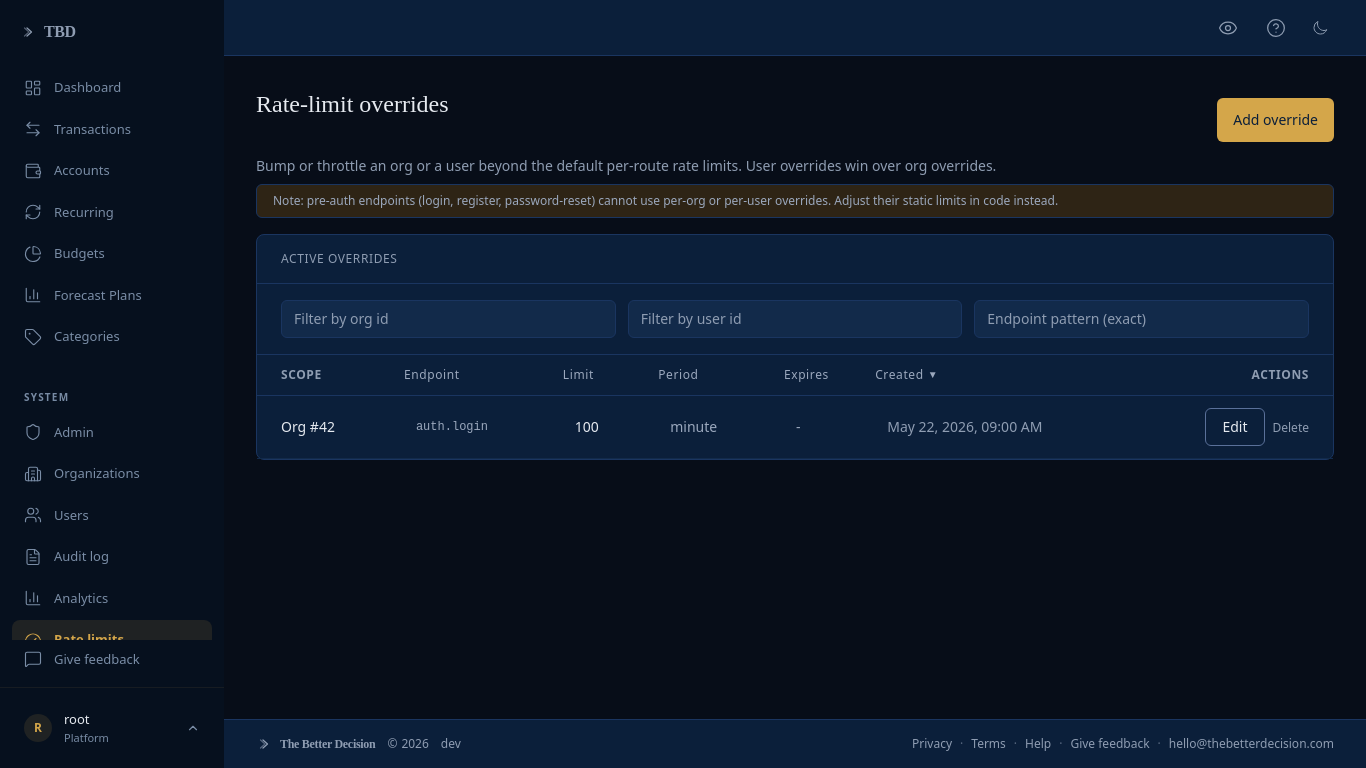
Test: AdminRateLimitOverridesPage › opens the edit modal pre-populated with the row's values
Expected: the text "auth.login" is shown, [392,396,551,458]
Click the button "Edit".
click(1235, 427)  # box [1205,408,1264,446]
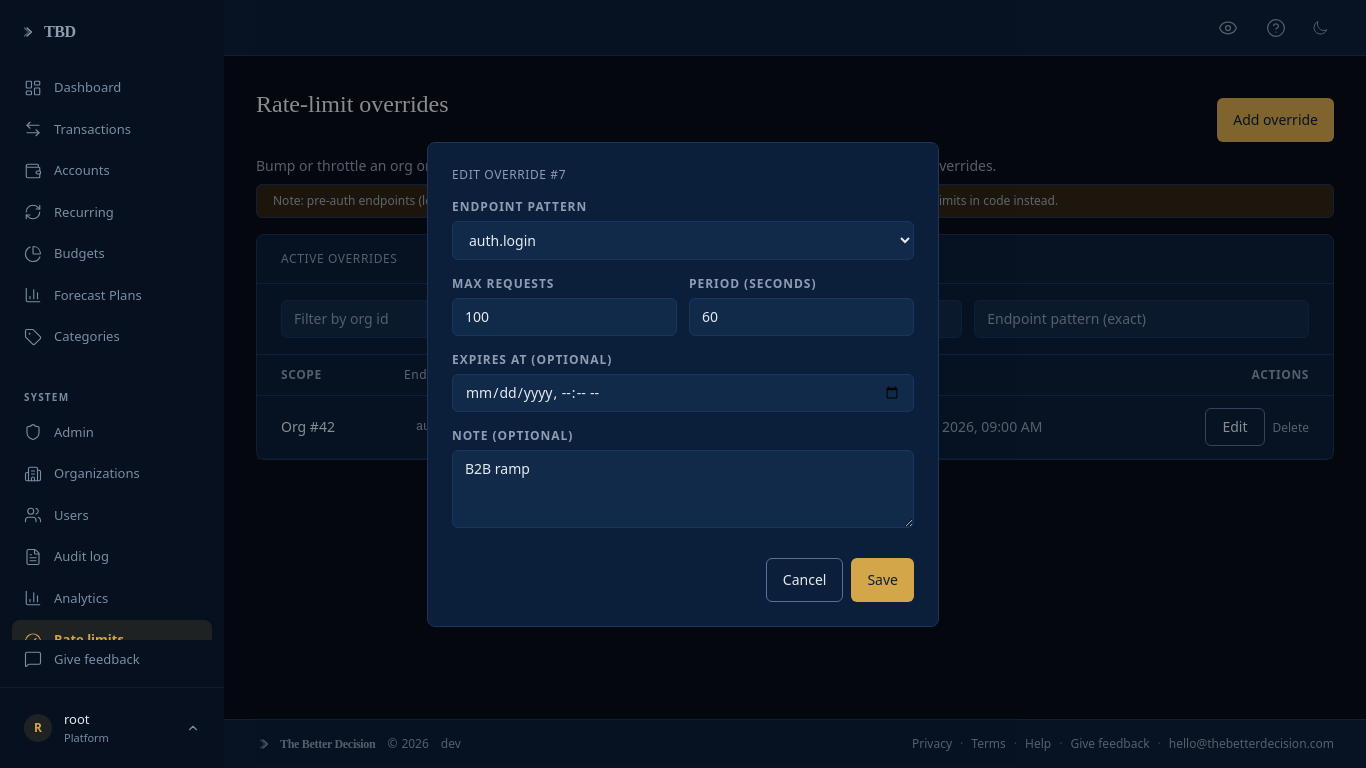
Result: the heading "Edit override #7" is shown at [452,166,566,182]
Result: the field labelled "Max requests" holds "100" at [452,298,677,336]
